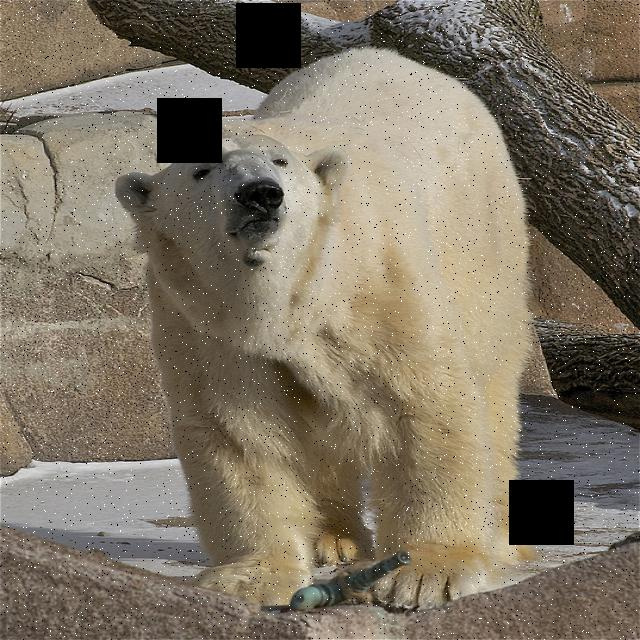Bear: (110, 38, 559, 611)
